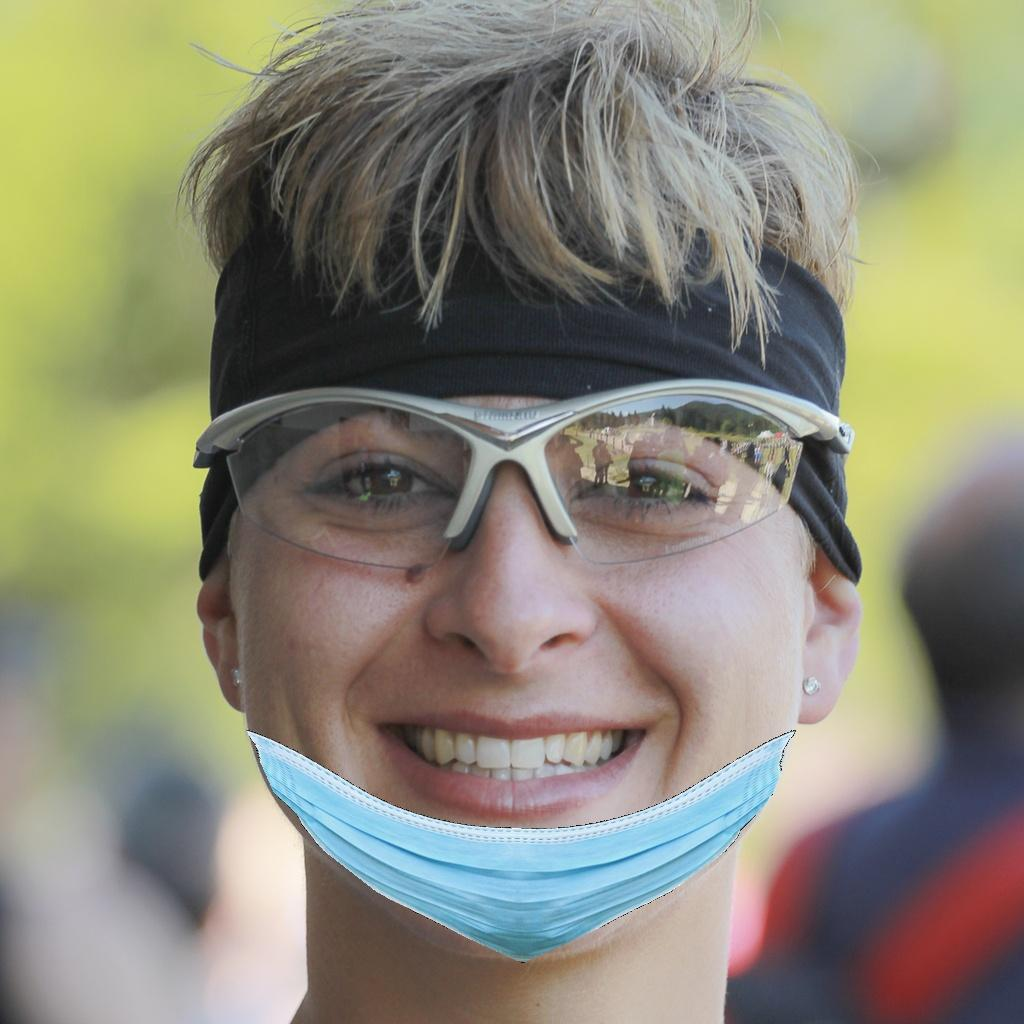Máscara Incorreta: (204, 280, 837, 948)
